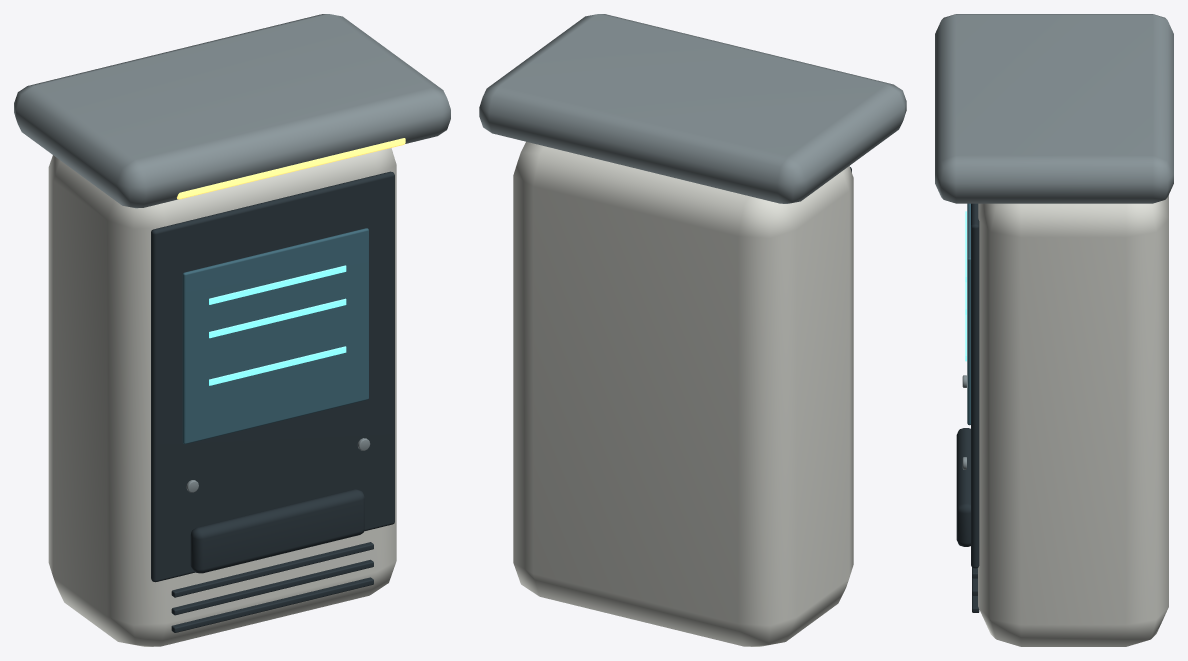
The model's file is vending-machine.glb.
3 views of the same model, side by side, from view 1: azimuth 30°, elevation 25°; view 2: azimuth 150°, elevation 25°; view 3: azimuth 270°, elevation 25° (orthographic). The views are drawn at different scales.
Parts seen in each view (by area): view 1: NC ceramic ivory.008, NC graphite.008, NC brushed titanium.008, NC sapphire glazing.008, NC cyan.005, NC amber.005; view 2: NC ceramic ivory.008, NC brushed titanium.008; view 3: NC ceramic ivory.008, NC brushed titanium.008, NC graphite.008, NC sapphire glazing.008.
Part boxes in pixels (x1,y1,x2,y2): NC ceramic ivory.008: [48, 148, 396, 646]; NC graphite.008: [151, 171, 394, 632]; NC brushed titanium.008: [14, 14, 450, 492]; NC sapphire glazing.008: [182, 228, 368, 444]; NC cyan.005: [209, 265, 346, 385]; NC amber.005: [177, 138, 405, 199]; NC ceramic ivory.008: [513, 141, 853, 646]; NC brushed titanium.008: [479, 14, 906, 203]; NC ceramic ivory.008: [978, 195, 1168, 646]; NC brushed titanium.008: [935, 14, 1173, 469]; NC graphite.008: [956, 203, 979, 612]; NC sapphire glazing.008: [967, 203, 970, 425].
Bounding box in the file's own units: 1.57 × 2.36 × 1.
